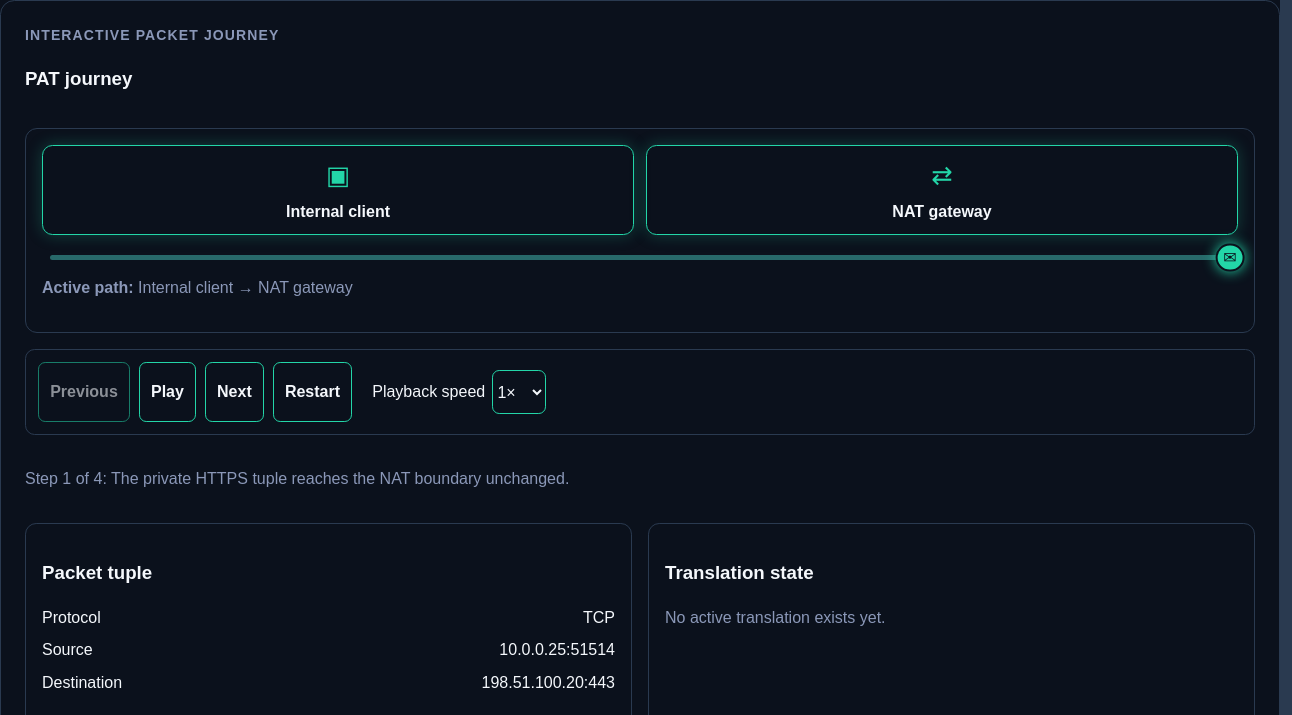
Test: NatJourneyPlayer › keeps packet, tuple, and translation state synchronized during manual playback
Expected: the button "Previous" is disabled, [38,362,130,422]
Click the button "Next" at point(234, 392), box [205,362,264,422]
(page scrolled)
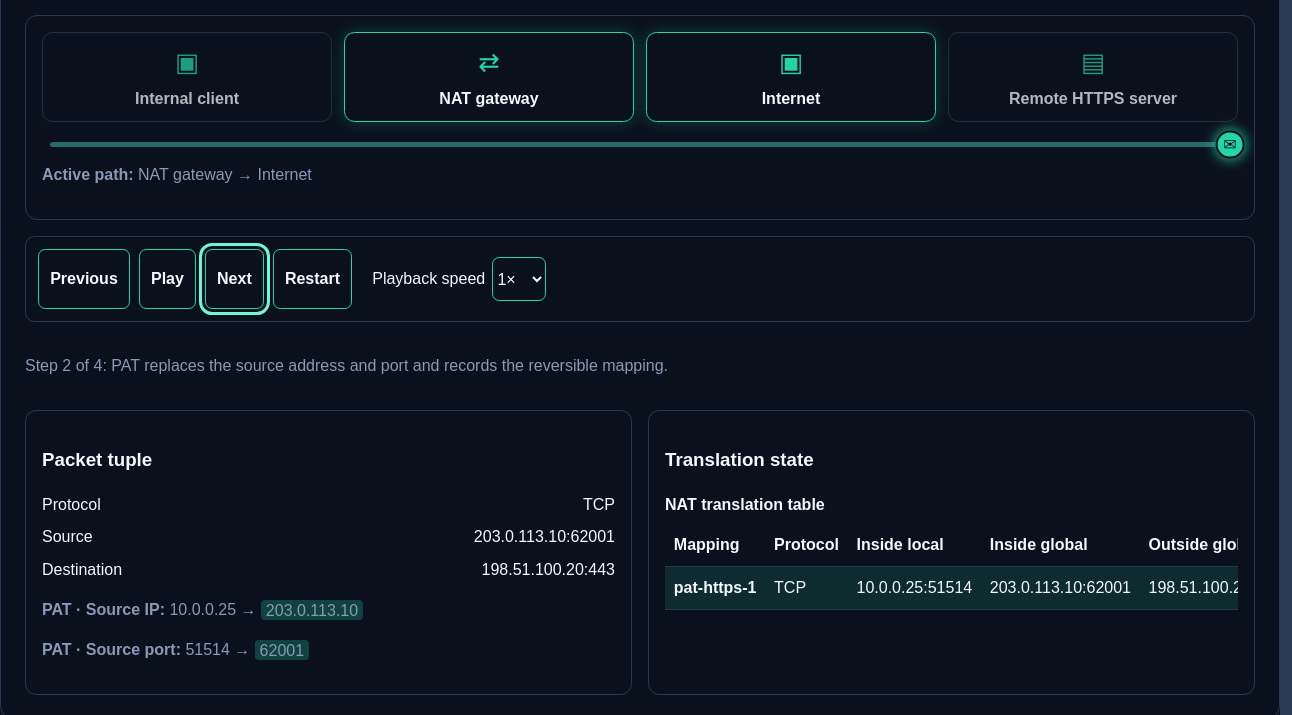
Expected: the text "203.0.113.10" is shown, [261,600,363,620]
